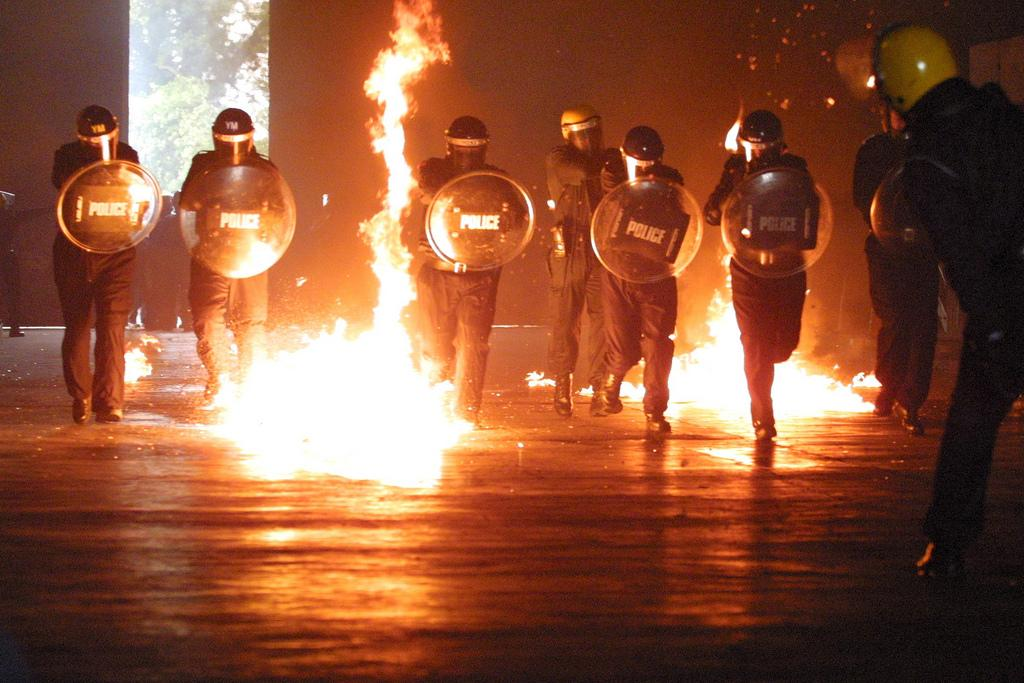fire: (243, 333, 440, 480), (365, 15, 417, 305), (673, 315, 740, 418), (778, 358, 852, 433)
